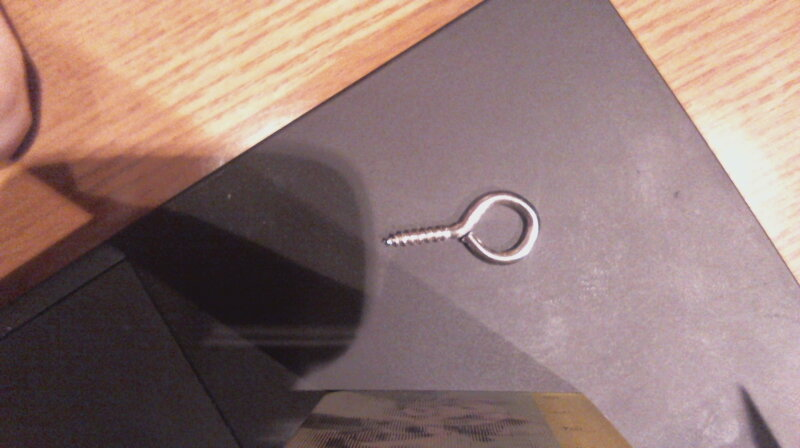O001: (380, 185, 543, 271)
